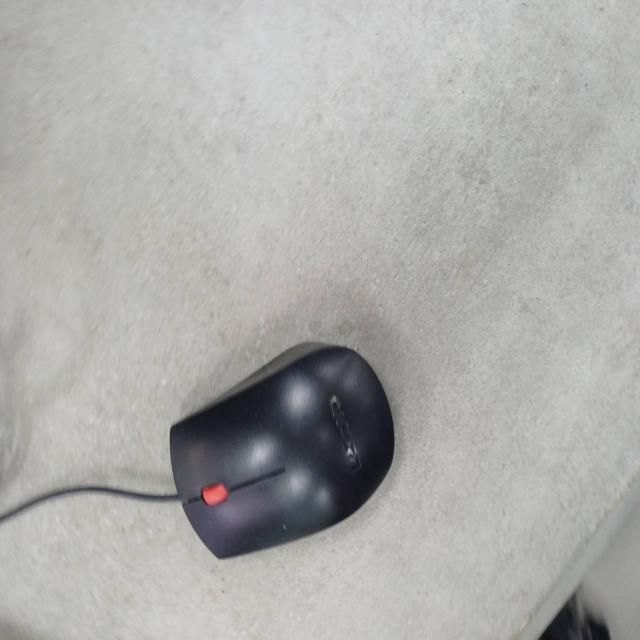mouse: (166, 330, 401, 570)
